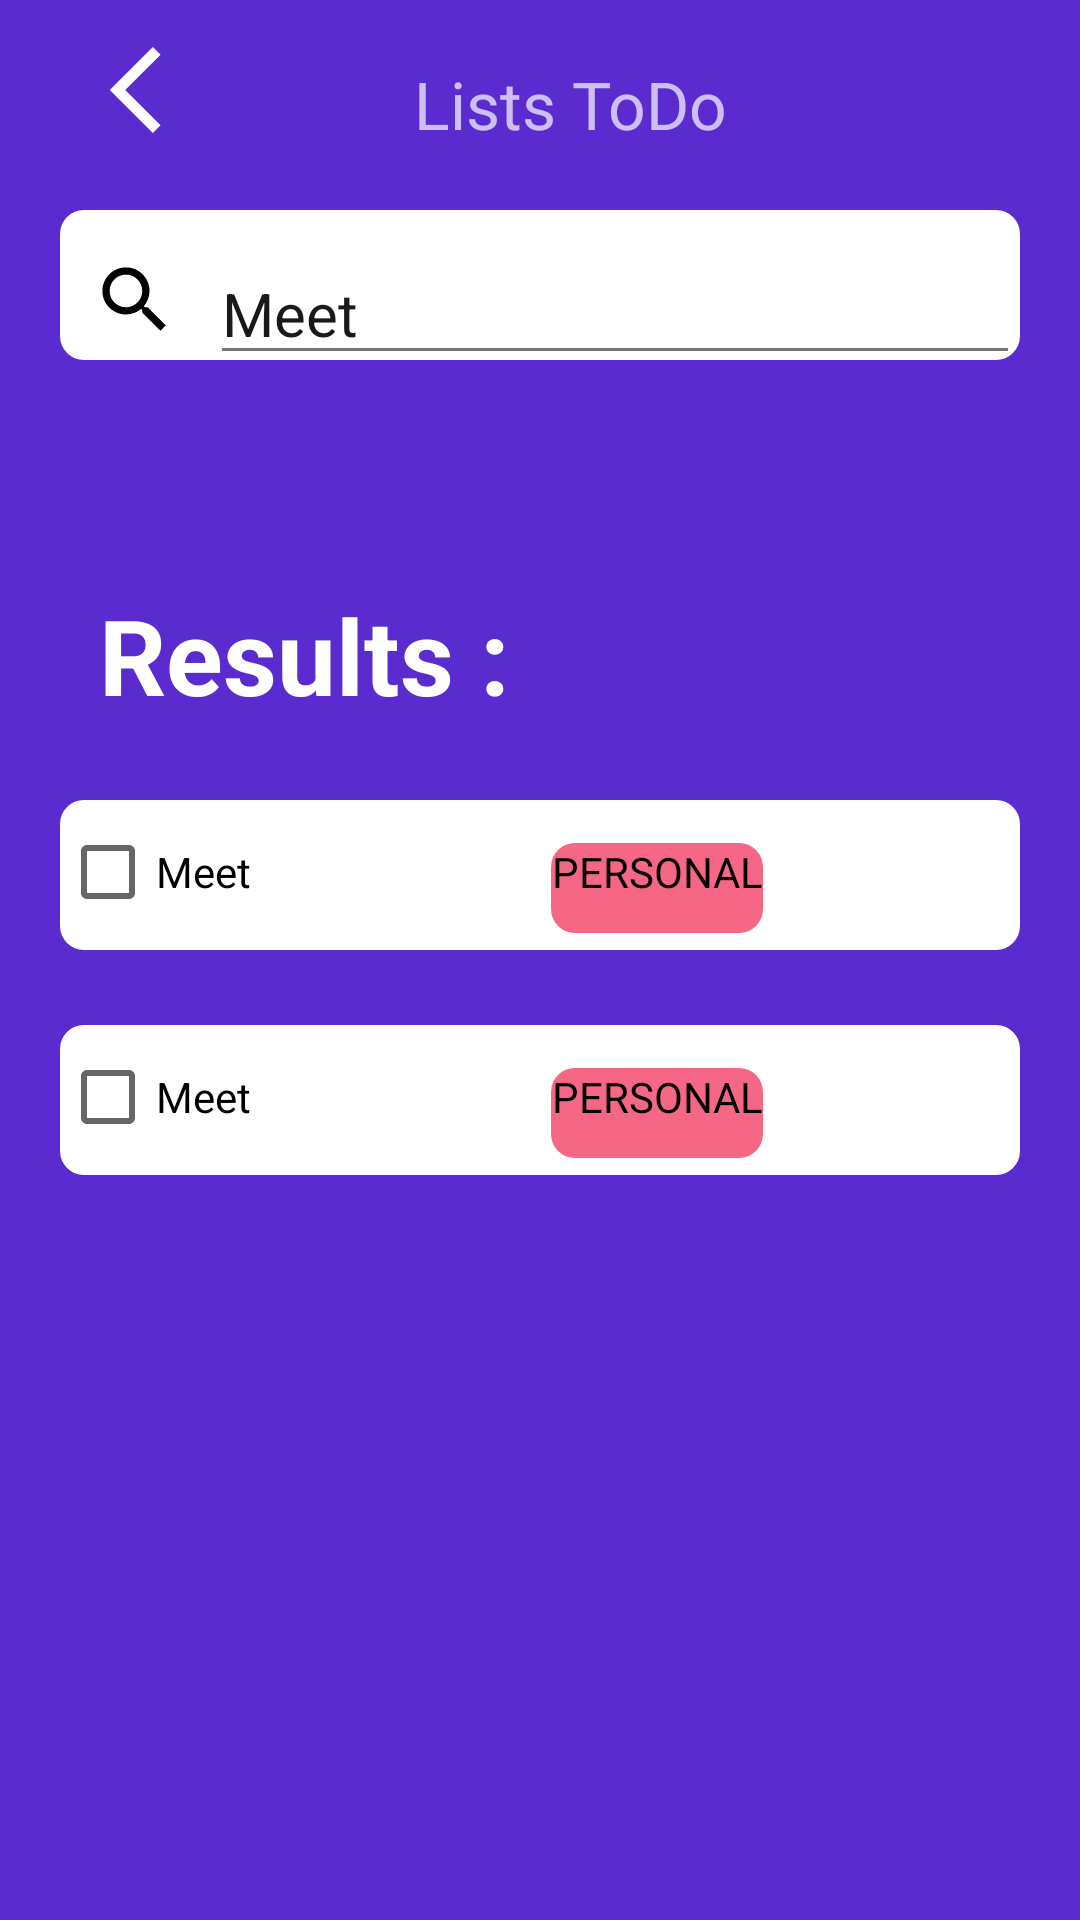

Screen size 1080px x 1920px. Icon name, then its box in pixels as (x1, y1, x2, y2):
arrowback: (110, 47, 161, 133)
